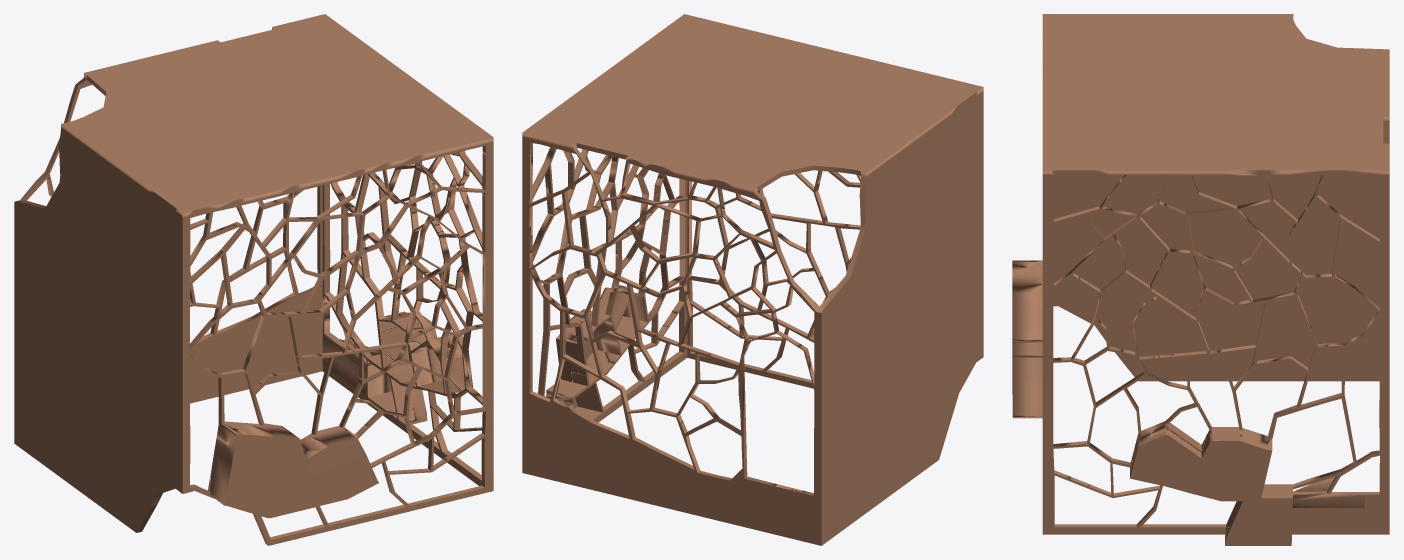
The model's file is Nexus_WallsABC.fbx.
3 views of the same model, side by side, from view 1: azimuth 30°, elevation 25°; view 2: azimuth 150°, elevation 25°; view 3: azimuth 270°, elevation 25° (orthographic). The views are drawn at different scales.
Visible parts, largest first — view 1: Collection_Room84; view 2: Collection_Room84; view 3: Collection_Room84.
Part boxes in pixels (<box>): Collection_Room84: <box>14,14,493,545</box>; Collection_Room84: <box>522,14,983,545</box>; Collection_Room84: <box>1012,14,1389,545</box>.
Bounding box in the file's own units: 255 × 259 × 243.
